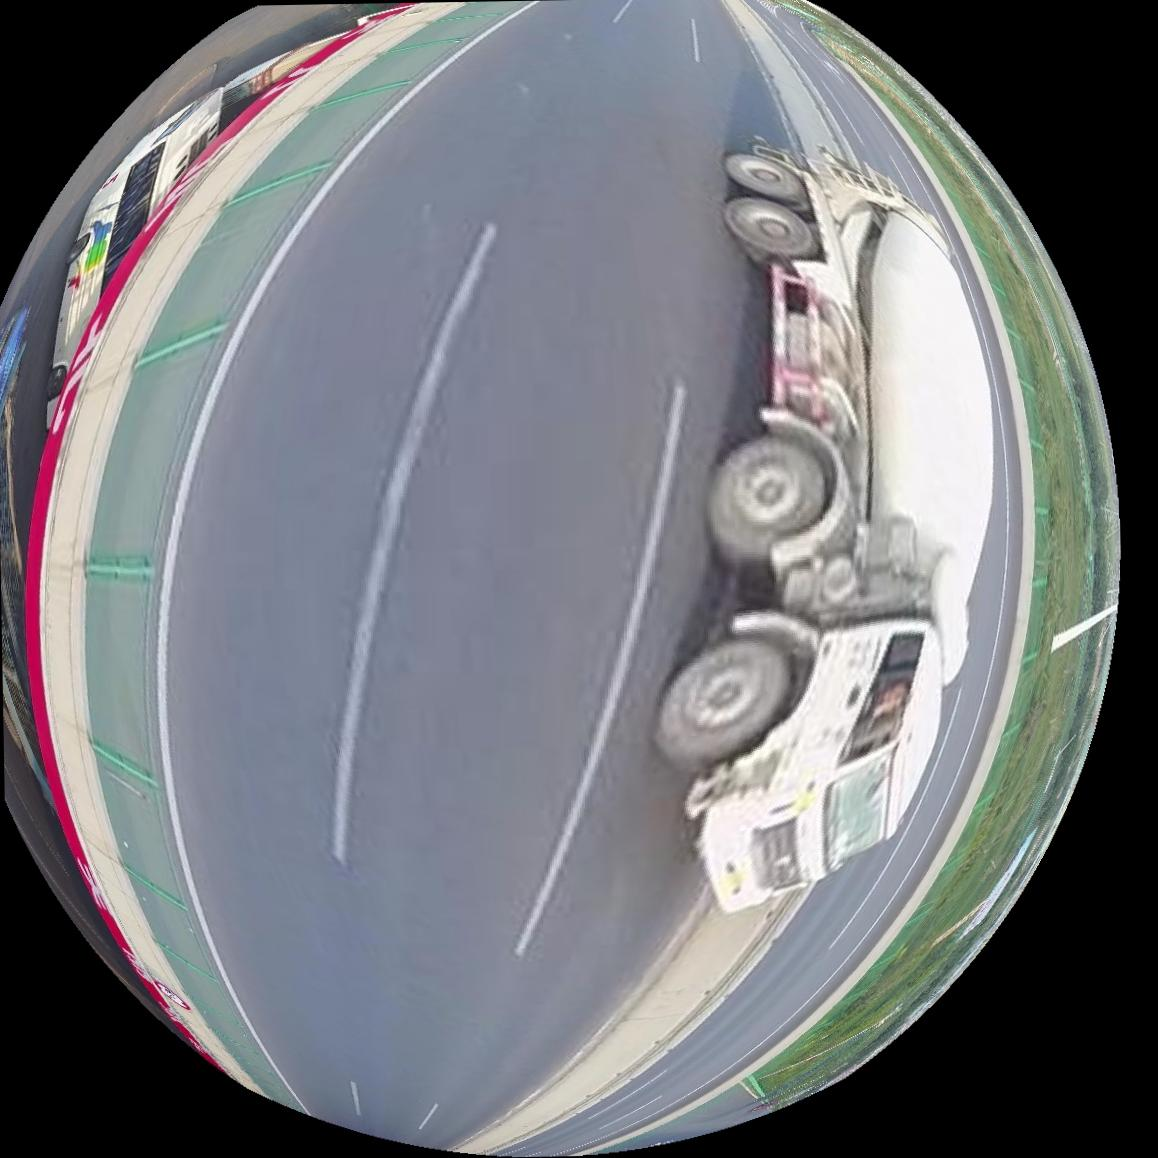cars: (654, 142, 995, 913), (43, 85, 229, 425), (0, 306, 42, 789)
